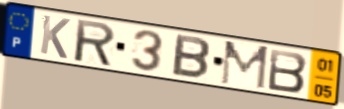3: (129, 28, 166, 73)
B: (266, 47, 310, 95), (169, 32, 212, 81)
K: (38, 13, 73, 61)
M: (219, 39, 271, 92)
R: (74, 17, 117, 68)
